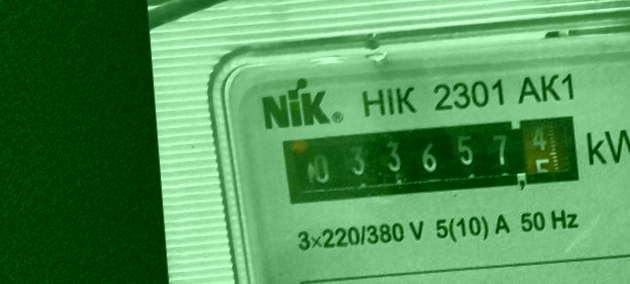0: (310, 148, 333, 186)
3: (347, 141, 369, 177), (383, 137, 404, 174)
4: (529, 121, 551, 152)
5: (453, 130, 477, 167)
6: (417, 138, 440, 174)
7: (490, 129, 510, 166)
screen: (270, 106, 588, 212)
